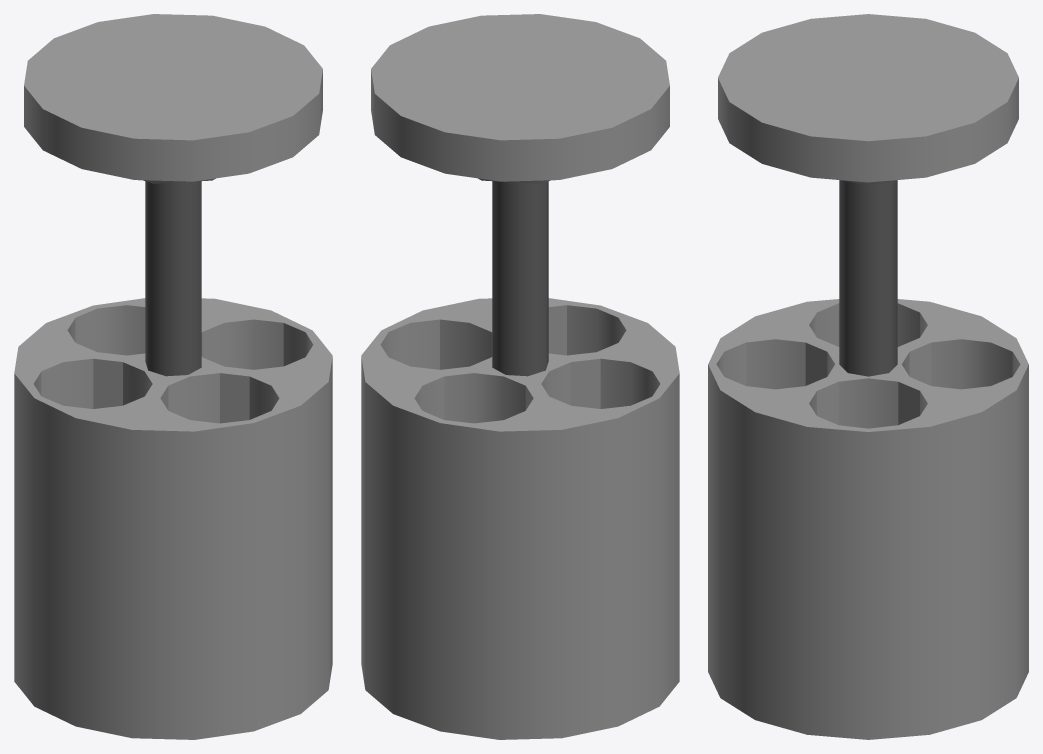
The model's file is SM_RocketBarrel.fbx.
The picture shows the model from 3 angles, left to right: view 1: azimuth 30°, elevation 25°; view 2: azimuth 150°, elevation 25°; view 3: azimuth 270°, elevation 25°; orthographic projection.
Visible parts, largest first — view 1: Base.001, Top, Axis; view 2: Base.001, Top, Axis; view 3: Base.001, Top, Axis.
Part boxes in pixels (x1=…): Base.001: x1=14, y1=298, x2=332, y2=739; Top: x1=24, y1=14, x2=322, y2=181; Axis: x1=143, y1=178, x2=215, y2=376; Base.001: x1=361, y1=298, x2=679, y2=739; Top: x1=371, y1=14, x2=669, y2=181; Axis: x1=478, y1=178, x2=550, y2=376; Base.001: x1=708, y1=299, x2=1028, y2=739; Top: x1=718, y1=14, x2=1018, y2=182; Axis: x1=839, y1=180, x2=897, y2=376.
Size of the model in its own units: 2.21 by 4.52 by 2.21.
Materials: 1 (1 with a texture image).
